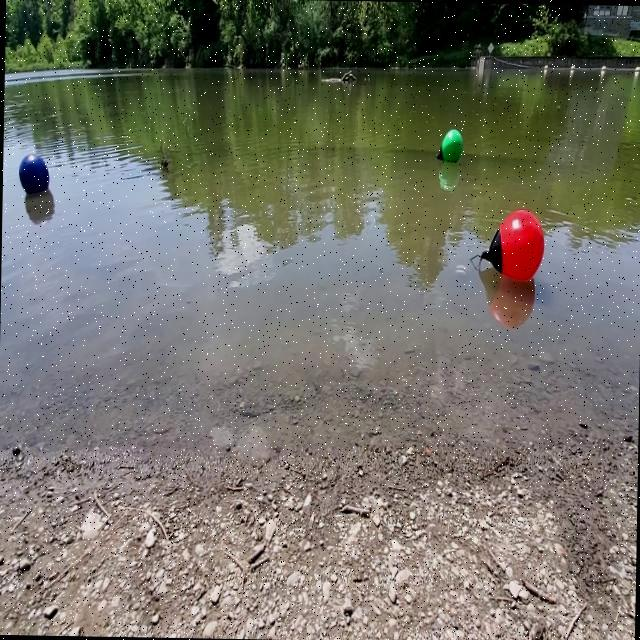buoy: (470, 205, 548, 288), (14, 149, 50, 202), (432, 126, 464, 165)
